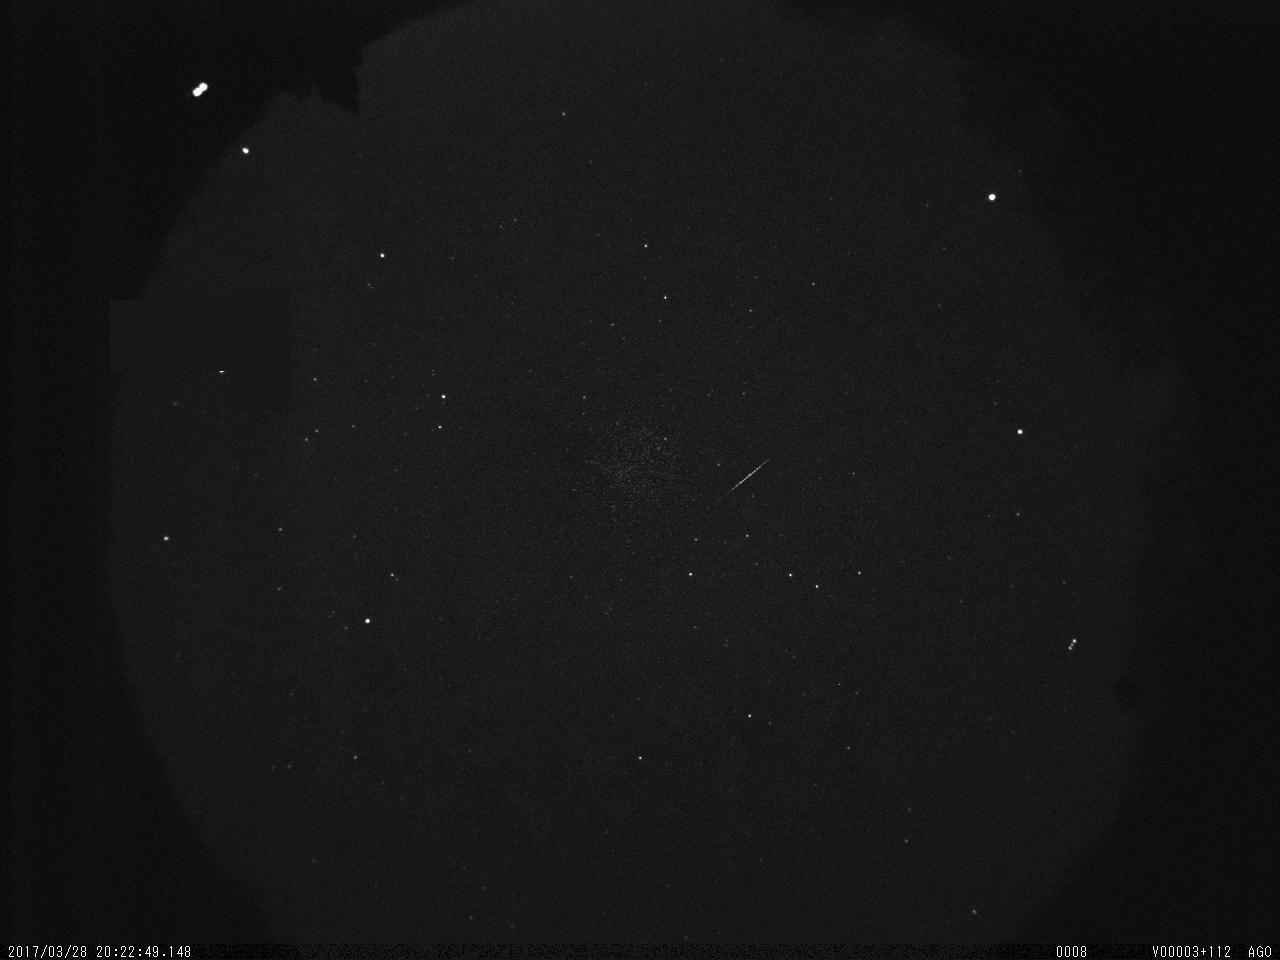meteor: (722, 453, 779, 493)
